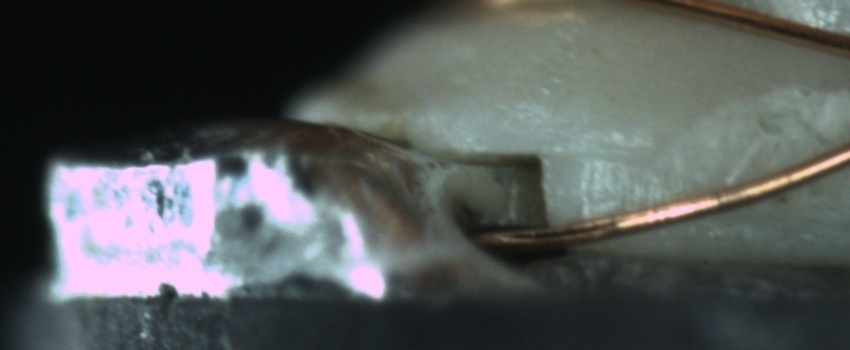DL: (553, 124, 669, 184)
